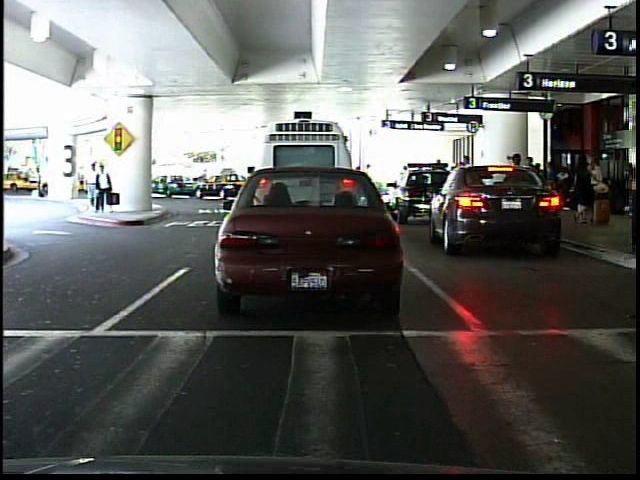person: (83, 156, 118, 213), (356, 158, 378, 200), (35, 165, 50, 203), (197, 166, 213, 195)
